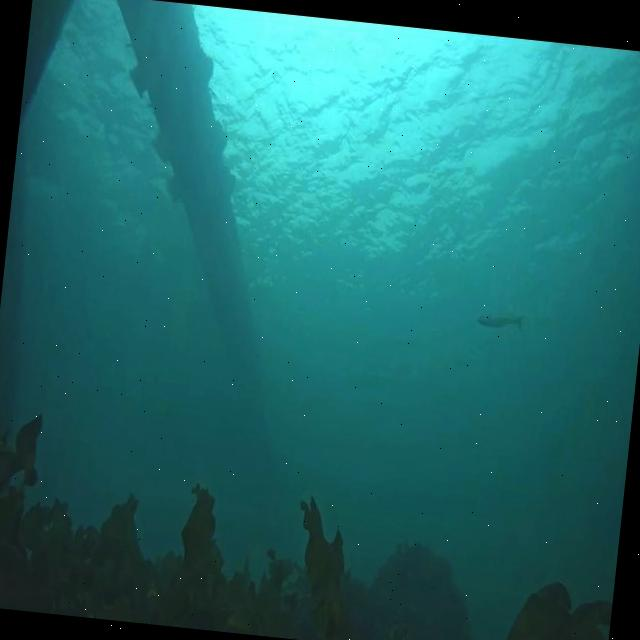fish: (477, 308, 526, 334)
